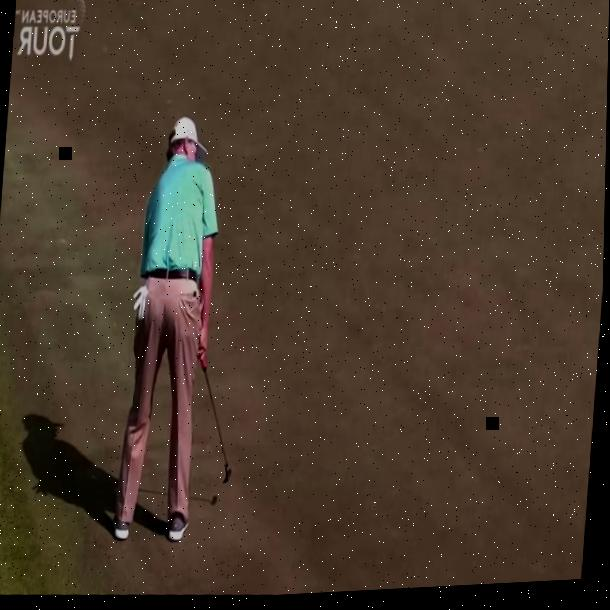ClubHead: (214, 430, 239, 498)
